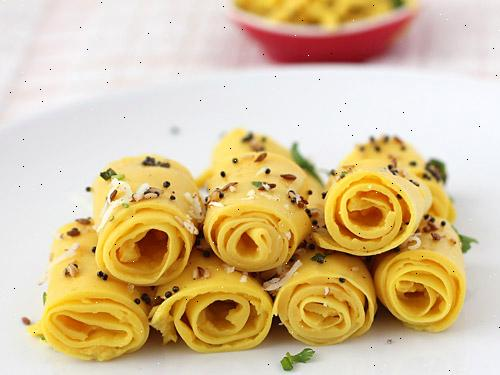khandvi: (31, 122, 478, 360)
